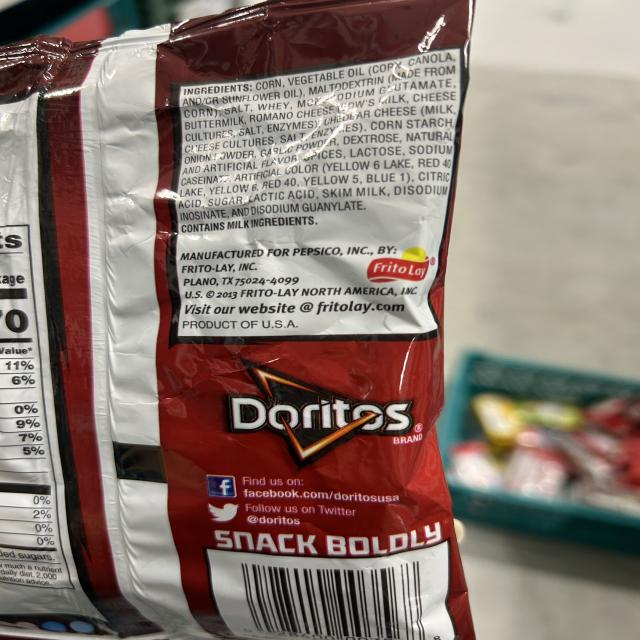object_name: (13, 38, 455, 640)
